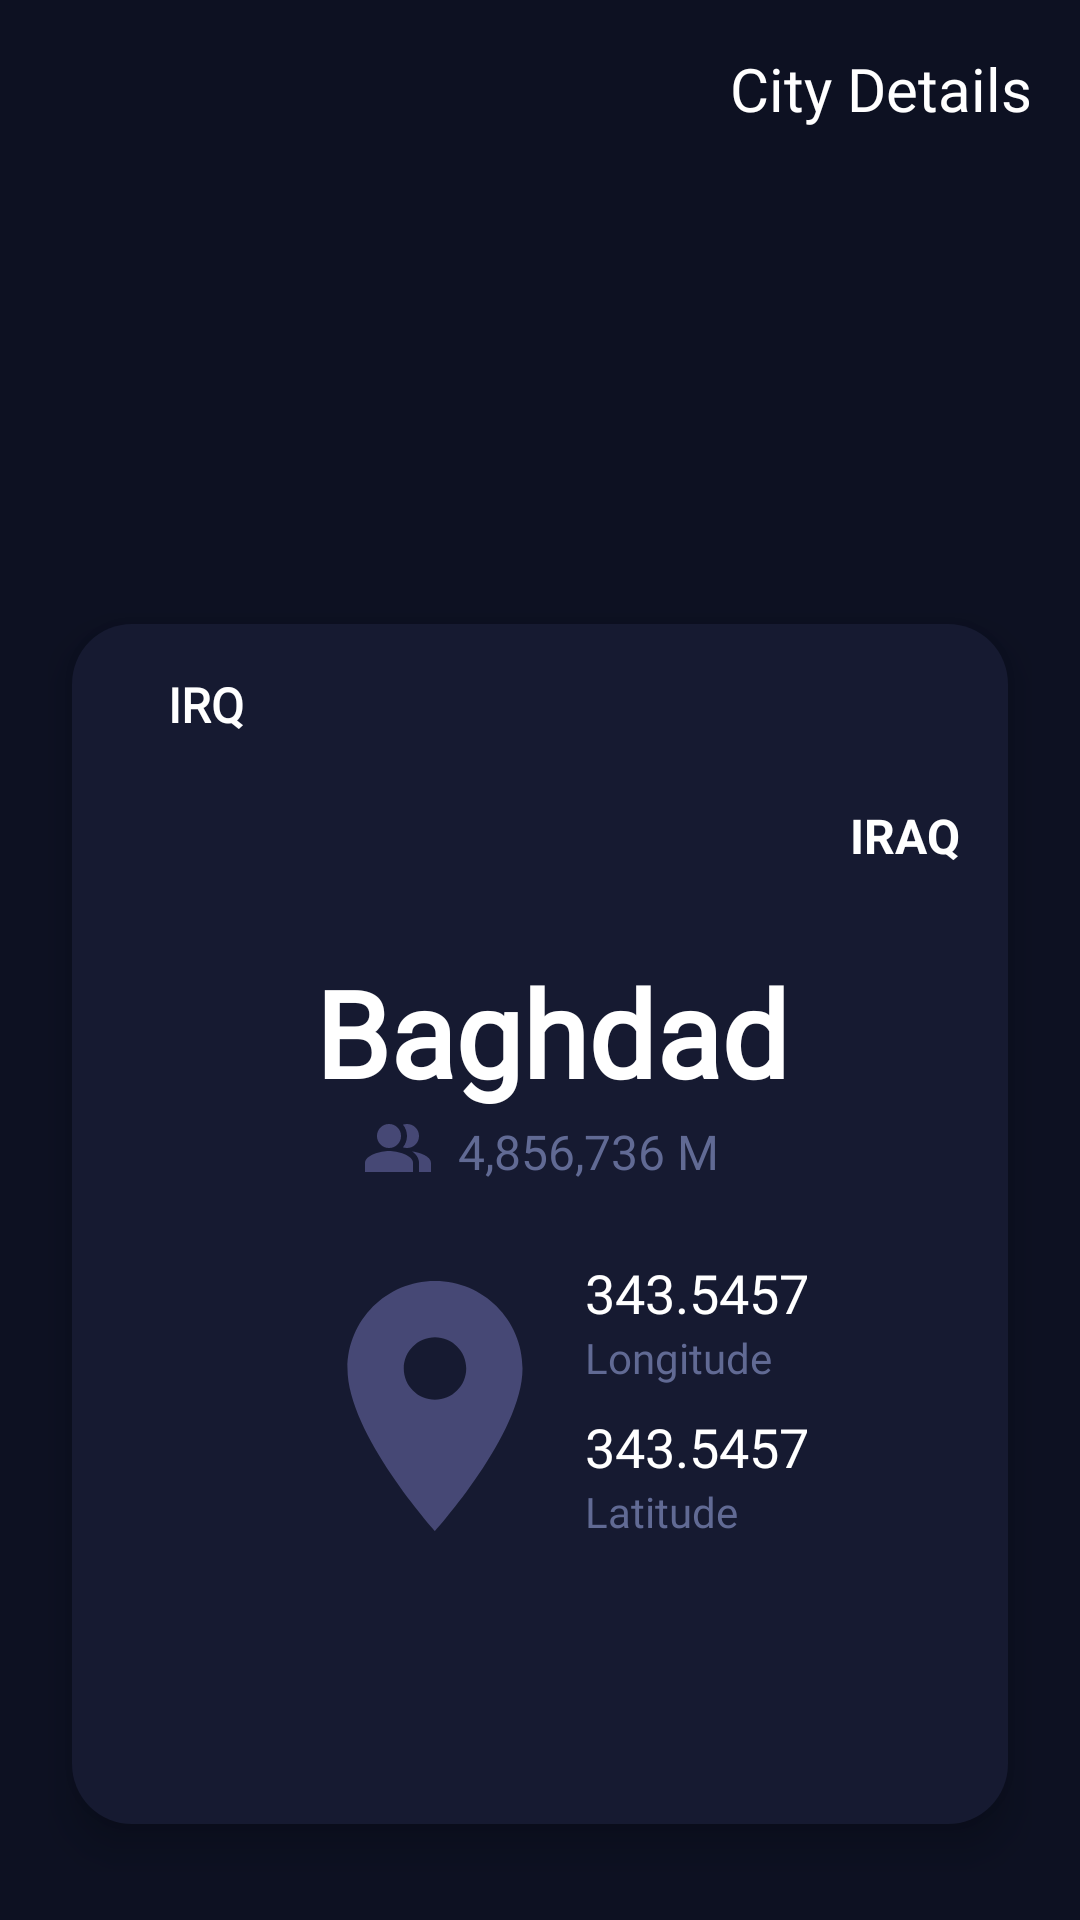

Where to tap for icons on this 1080 × 1920 app screen, as [x,y]:
location on: [435,1406]
people: [398,1148]
